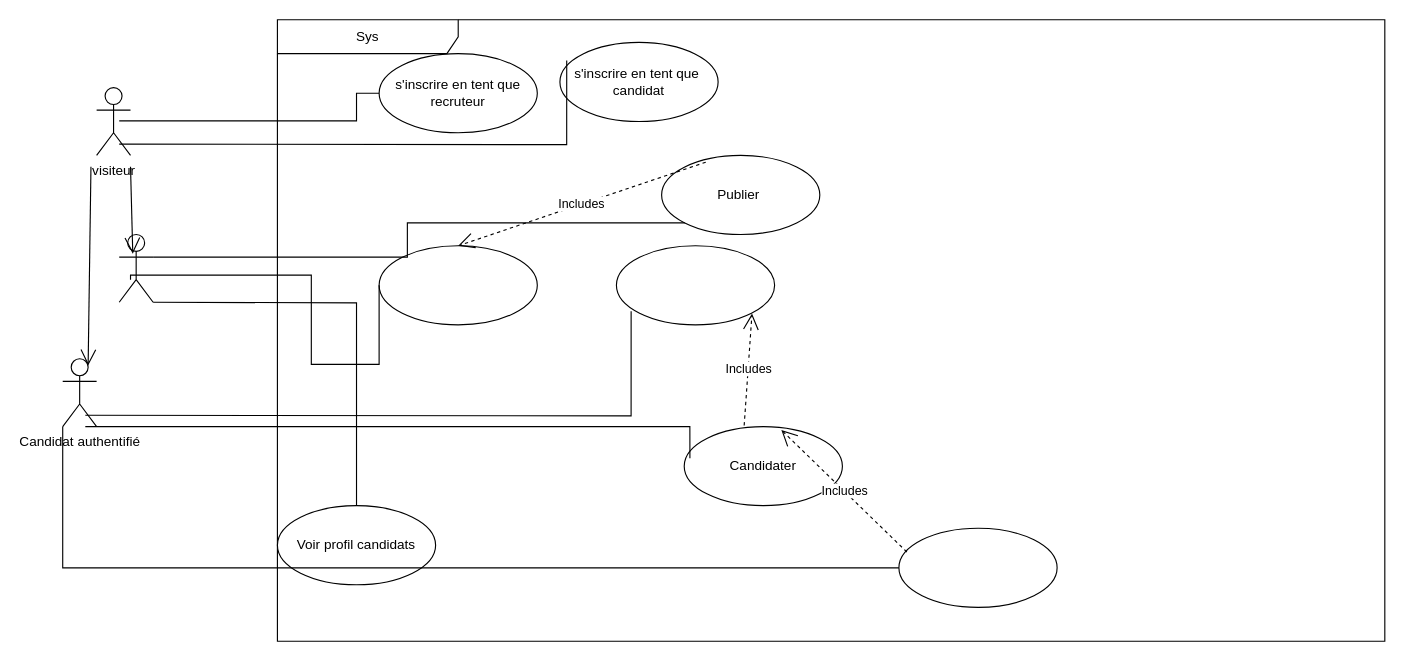
The diagram is 1405 pixels wide and 661 high, and some of its shapes have lost their labels. The box of each missing label's shape, as (x1, y1, x2, y2) in pixels:
Consulter historique candidatures: (898, 527, 1057, 607)
Consulter offres: (615, 245, 775, 325)
créer entreprise: (378, 245, 537, 325)
recruteur authentifié: (118, 233, 153, 302)
